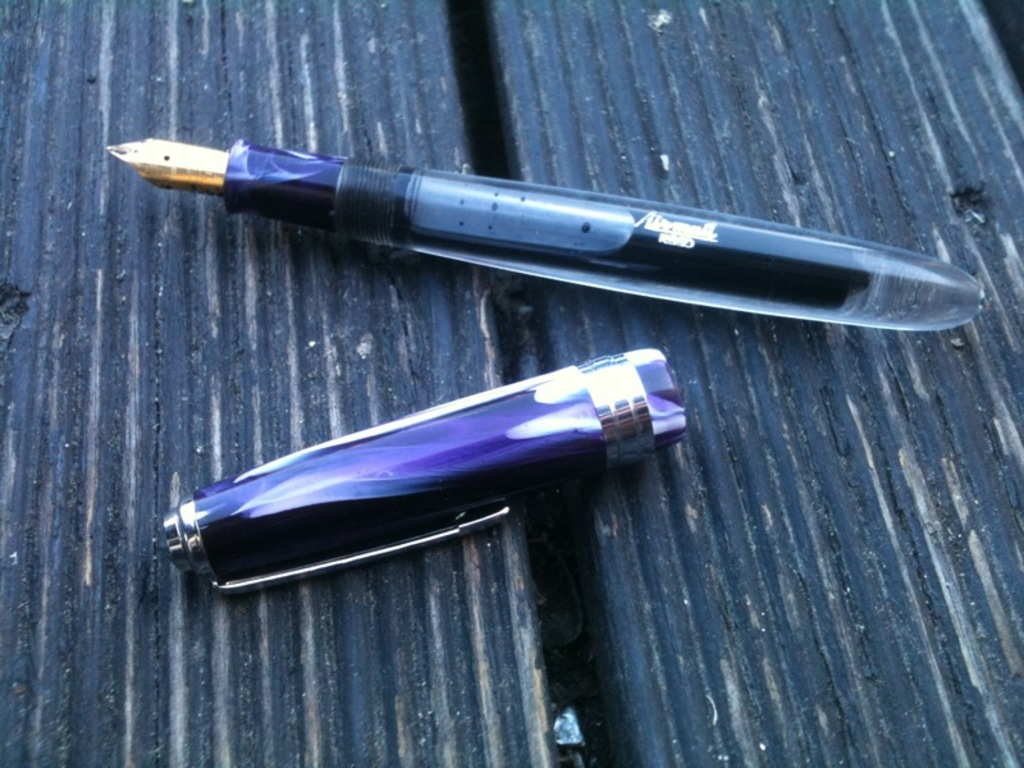Pen: (99, 141, 983, 332)
